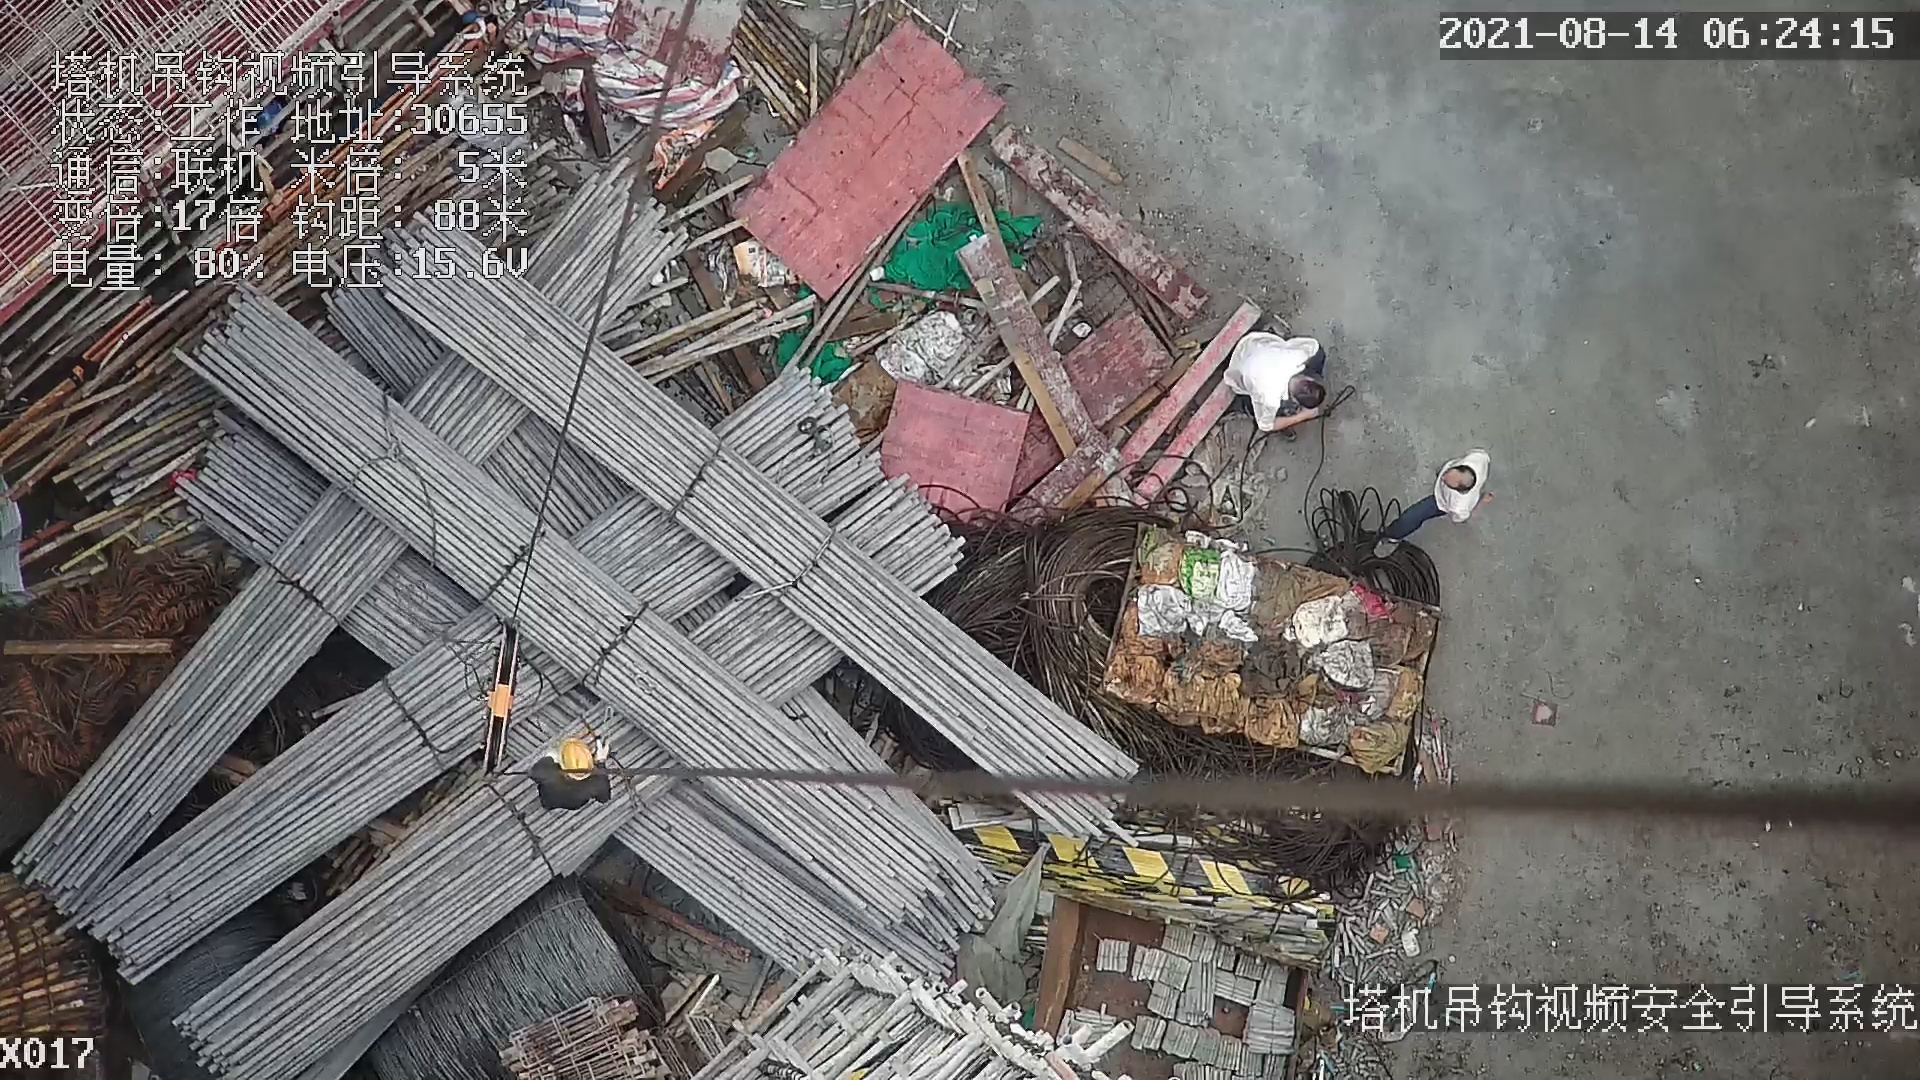helmet: (558, 738, 594, 781)
hook: (481, 613, 529, 773)
person: (1373, 430, 1490, 563), (1226, 328, 1331, 444), (524, 728, 620, 817)
rebar: (181, 285, 944, 929), (366, 276, 1136, 851), (175, 699, 693, 1080), (77, 618, 588, 981), (15, 485, 413, 919)
scaffold: (1, 869, 111, 1030)
